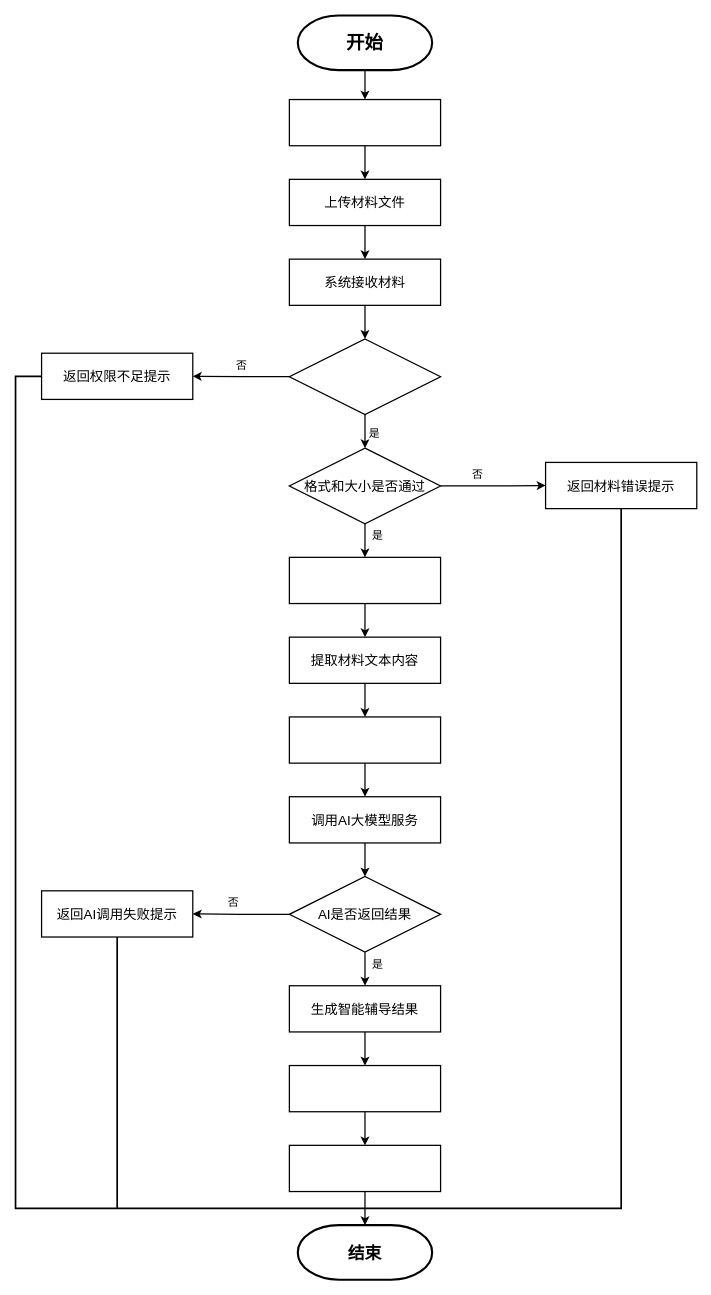
The diagram is 711 pixels wide and 1295 high, and some of its shapes have lost their labels. Each missing label, with the centre of its shape:
保存辅导记录: the point at 364,1088
保存项目材料: the point at 364,580
学生选择项目材料: the point at 364,122
展示修改建议与评估结果: the point at 364,1168
是否具有上传权限: the point at 364,376
构建AI请求上下文: the point at 364,739
